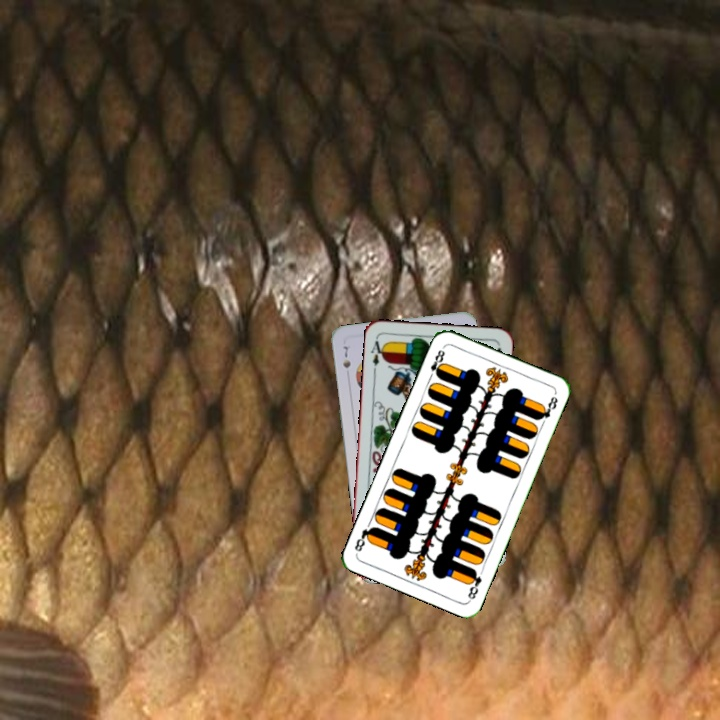E8: (425, 346, 447, 382), (464, 565, 484, 603)
EA: (367, 337, 387, 375)
S7: (339, 342, 353, 371)
